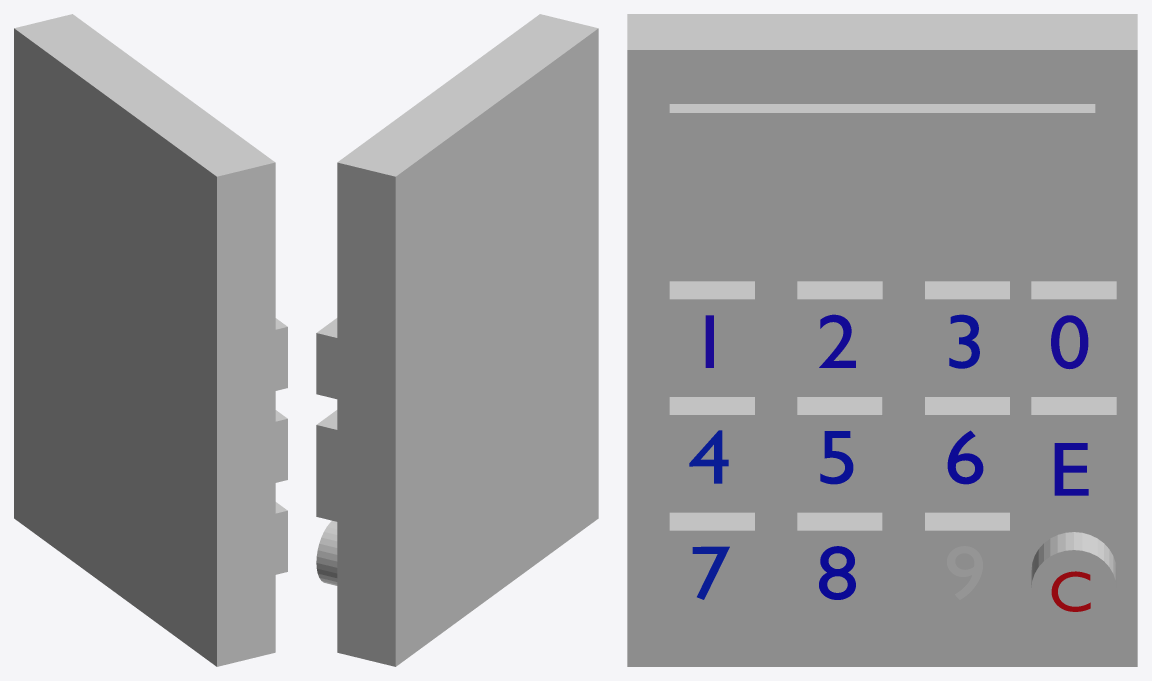
Rendered from keypad.fbx.
3 views of the same model, side by side, from view 1: azimuth 30°, elevation 25°; view 2: azimuth 150°, elevation 25°; view 3: azimuth 270°, elevation 25° (orthographic). The views are drawn at different scales.
Visible parts, largest first — view 1: Cube, Cube.007, Cube.001, Cube.005; view 2: Cube, Cube.011, Cube.012, Cylinder; view 3: Cube, Cube.010, Cube.011, Cube.001, Cube.007, Cube.002, Cube.003, Cube.005, Cube.004, Cube.012, Cube.009, Cube.006 (+5 smaller).
Boxes of the visible parts, x1=… form: Cube: x1=14, y1=14, x2=275, y2=666; Cube.007: x1=275, y1=502, x2=287, y2=574; Cube.001: x1=275, y1=318, x2=287, y2=390; Cube.005: x1=275, y1=410, x2=287, y2=482; Cube: x1=337, y1=14, x2=598, y2=666; Cube.011: x1=316, y1=410, x2=337, y2=521; Cube.012: x1=316, y1=318, x2=337, y2=399; Cylinder: x1=316, y1=520, x2=337, y2=585; Cube: x1=627, y1=14, x2=1137, y2=666; Cube.010: x1=669, y1=104, x2=1095, y2=236; Cube.011: x1=1031, y1=397, x2=1116, y2=530; Cube.001: x1=669, y1=281, x2=754, y2=376; Cube.007: x1=669, y1=512, x2=754, y2=607; Cube.002: x1=797, y1=281, x2=882, y2=376; Cube.003: x1=925, y1=281, x2=1009, y2=376; Cube.005: x1=669, y1=397, x2=754, y2=491; Cube.004: x1=797, y1=397, x2=882, y2=491; Cube.012: x1=1031, y1=281, x2=1116, y2=376; Cube.009: x1=925, y1=512, x2=1009, y2=607; Cube.006: x1=925, y1=397, x2=1009, y2=491.
Bounding box in the file's own units: 32 × 160 × 120.
